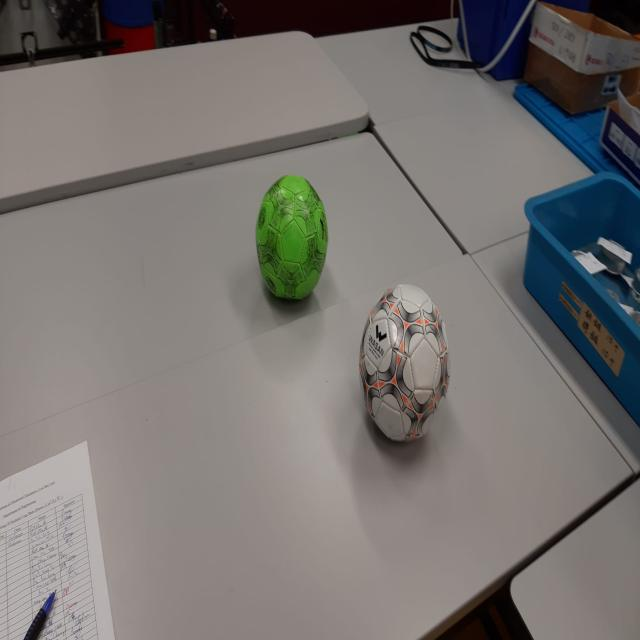ball: (360, 285, 451, 445), (256, 176, 328, 307)
